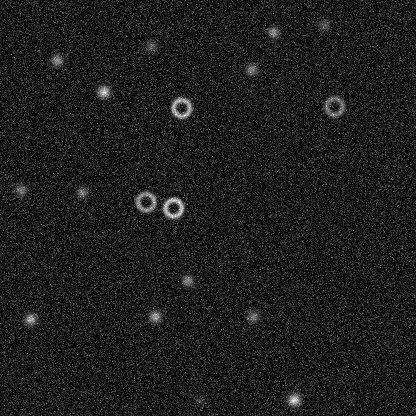Ring: (169, 95, 193, 119), (133, 189, 157, 213), (322, 94, 346, 118), (161, 195, 185, 219)
Spot: (265, 24, 281, 40), (22, 310, 38, 326), (245, 308, 261, 324), (12, 181, 28, 197), (285, 391, 301, 407), (192, 391, 208, 407), (315, 17, 331, 33), (147, 308, 163, 324), (95, 83, 111, 99), (48, 52, 64, 68), (142, 38, 158, 54), (243, 61, 259, 77), (74, 184, 90, 200), (179, 272, 195, 288)
